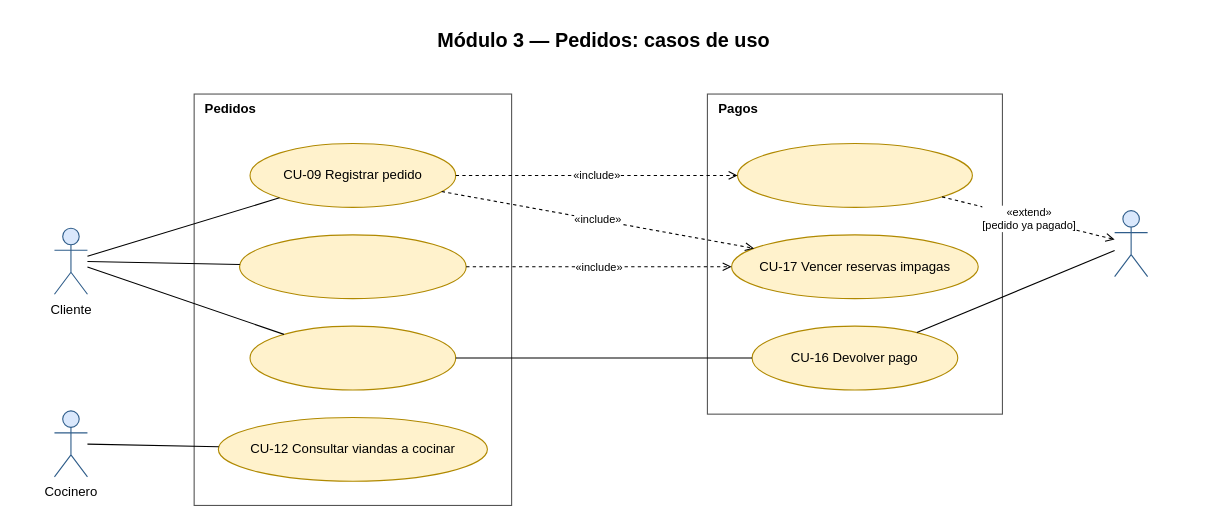
Image size: 1207x525. Some labels were removed from this diagram. The shapes that lost their labels are listed below. From the top down, each one's centre as x and y in pixels, then its label:
the point at 854,174: CU-13 Generar orden de pago
the point at 1131,243: Mercado Pago «sistema externo»
the point at 352,266: CU-10 Consultar mis pedidos
the point at 352,357: CU-11 Cancelar pedido
